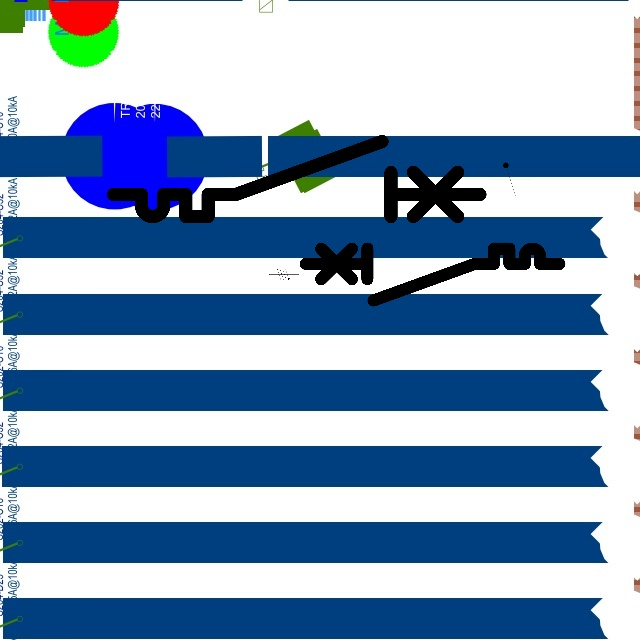interruptor_termomagnetico: (104, 132, 490, 226), (299, 242, 566, 307)
